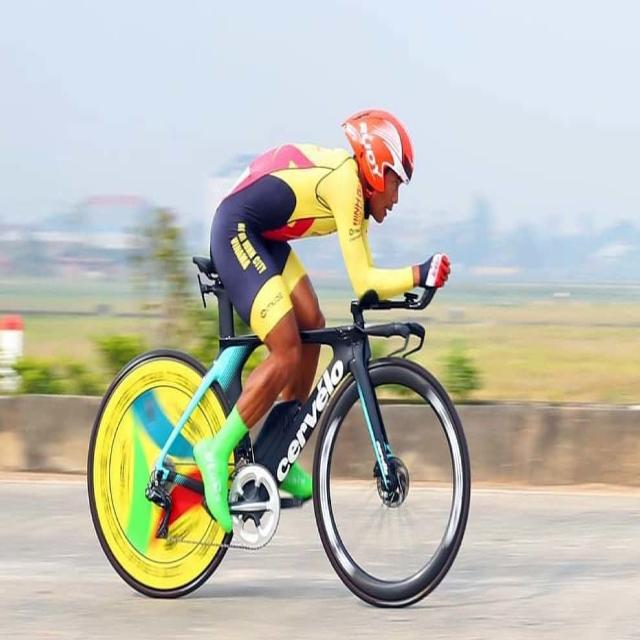1-2-helmet: (343, 110, 416, 195)
